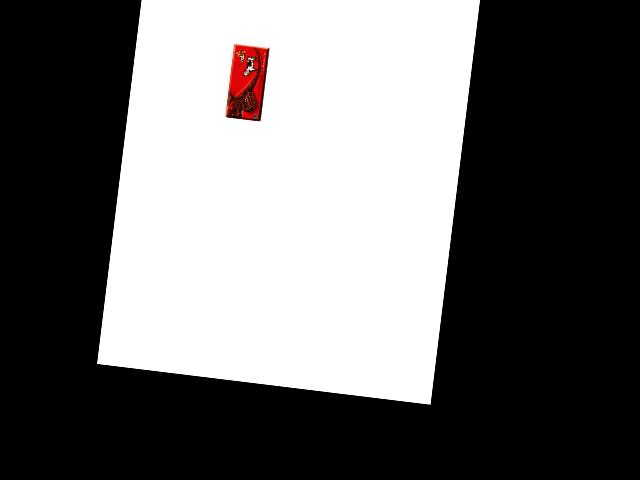chocolate: (217, 49, 262, 123)
